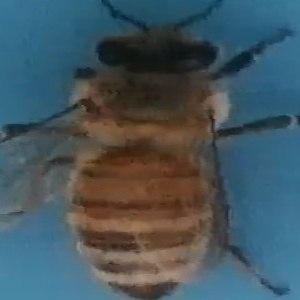bee: (13, 1, 293, 300)
